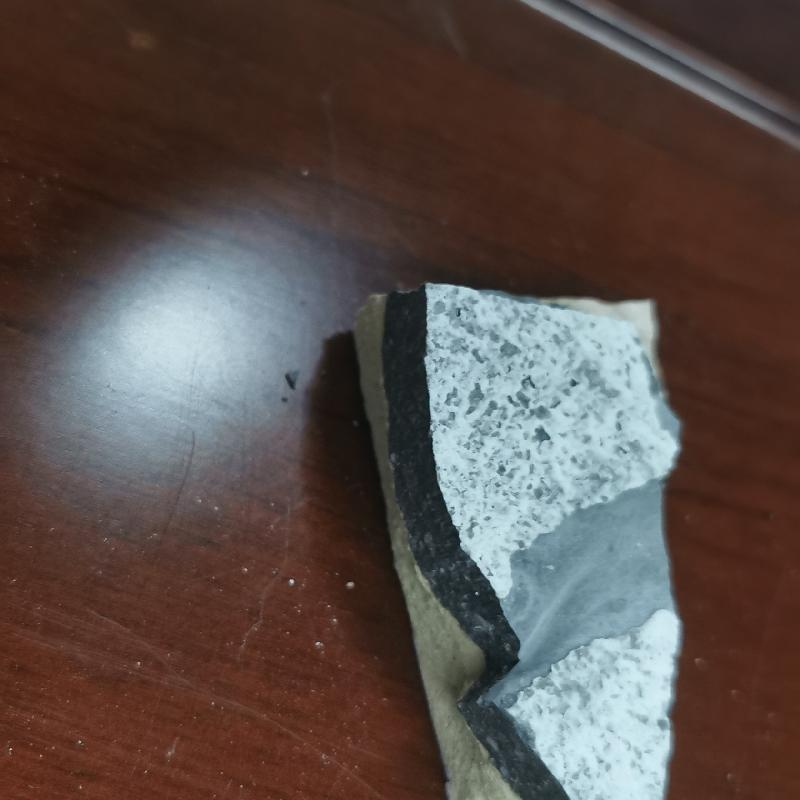tile: (342, 277, 729, 800)
